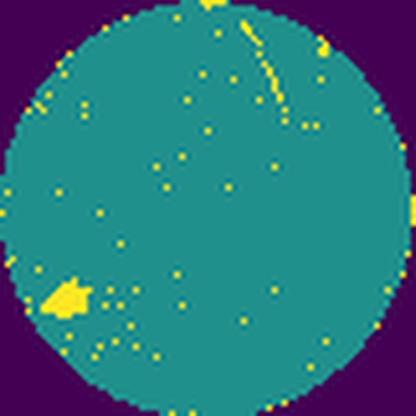Loc: (42, 276, 94, 317)
